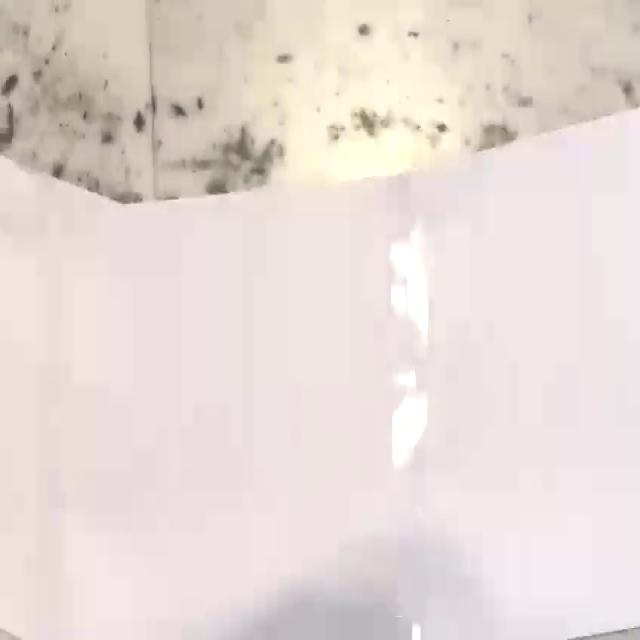road: (0, 108, 640, 639)
